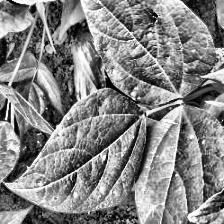Bean Rust: (83, 0, 216, 106), (38, 80, 141, 212), (135, 108, 224, 224)
